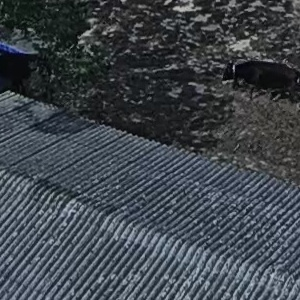cow: (209, 39, 298, 115)
